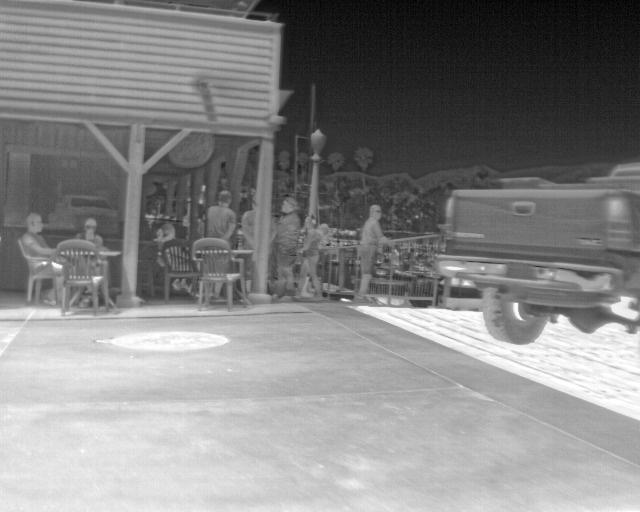bicycle: (432, 158, 639, 345)
empty: (350, 202, 385, 304), (271, 193, 301, 299), (298, 220, 326, 302), (16, 211, 58, 263), (205, 190, 235, 250), (72, 216, 108, 254), (154, 222, 181, 250), (238, 207, 253, 250)
